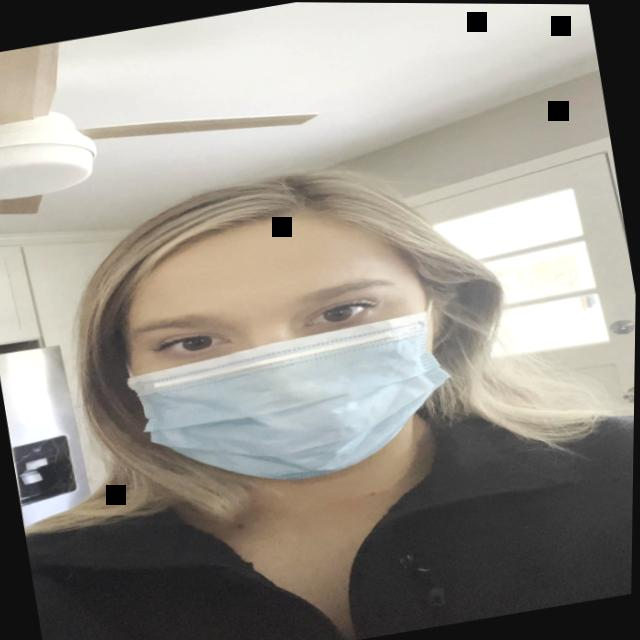Mask: (95, 184, 471, 507)
